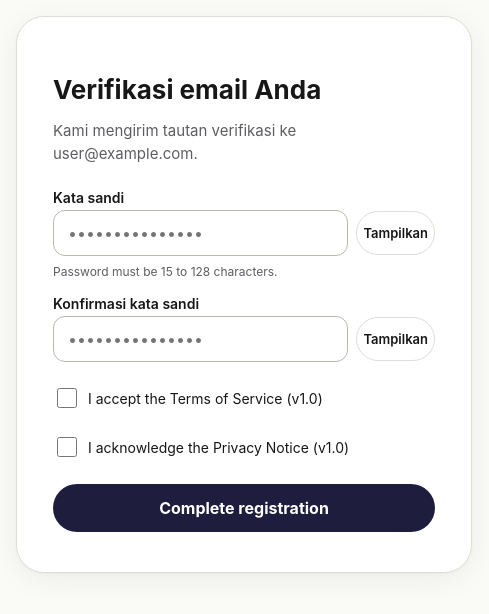
Test: AccountVerificationForm › clears token from address bar and validates password and terms before submitting
The image size is (489, 614).
Expected: the text "Kami mengirim tautan verifikasi ke user@example.com." is shown, left=53, top=121, right=296, bottom=163
// Submit with short password
Type "short" into the password field labelled "Kata sandi" at (201, 233), box left=53, top=210, right=348, bottom=256
Type "short" into the password field labelled "Konfirmasi kata sandi" at (201, 339), box left=53, top=316, right=348, bottom=362
Click the checkbox labelled "I accept the Terms of Service (v1.0)" at (67, 398), box left=57, top=388, right=77, bottom=408
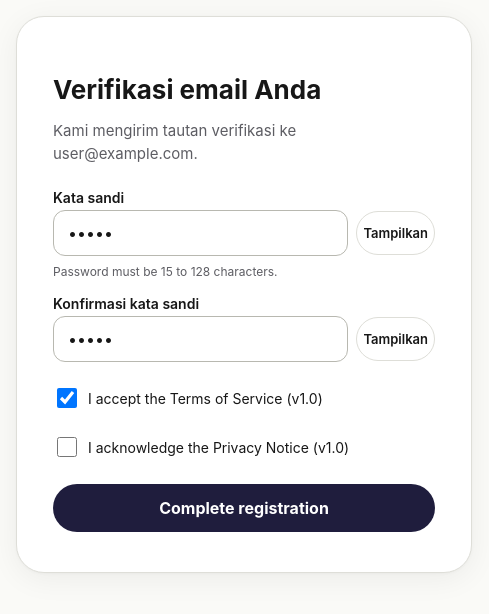
Click the checkbox labelled "I acknowledge the Privacy Notice (v1.0)" at (67, 447), box left=57, top=437, right=77, bottom=457
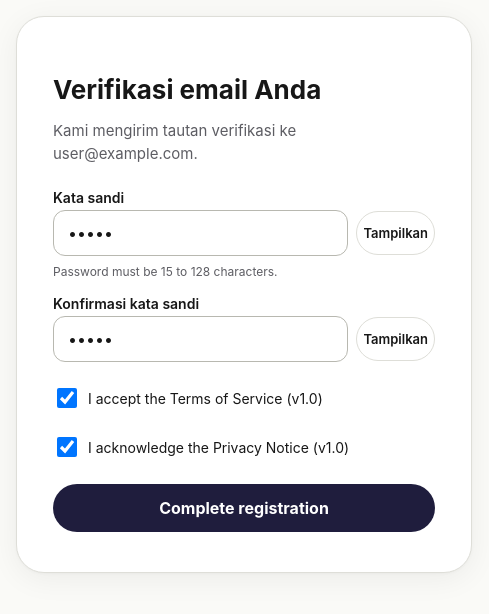
Click the button "Complete registration" at (244, 508), box left=53, top=484, right=435, bottom=532
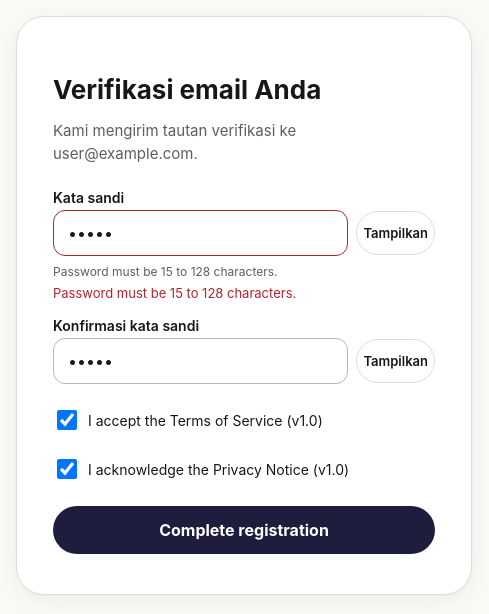
Now the message shows "15", box left=53, top=285, right=296, bottom=301
// Submit with valid 15+ char password
Type "valid-password-15-chars-min" into the password field labelled "Kata sandi" at (201, 233), box left=53, top=210, right=348, bottom=256
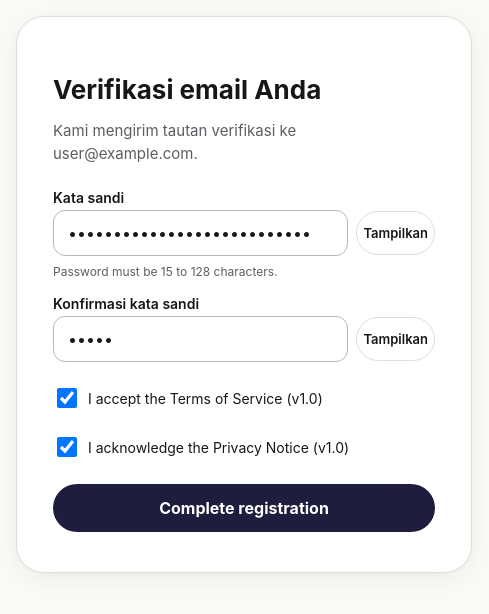
Type "valid-password-15-chars-min" into the password field labelled "Konfirmasi kata sandi" at (201, 339), box left=53, top=316, right=348, bottom=362
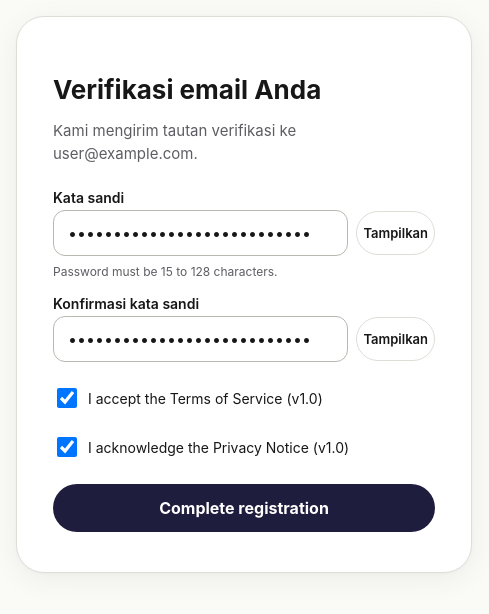
Click the button "Complete registration" at (244, 508), box left=53, top=484, right=435, bottom=532
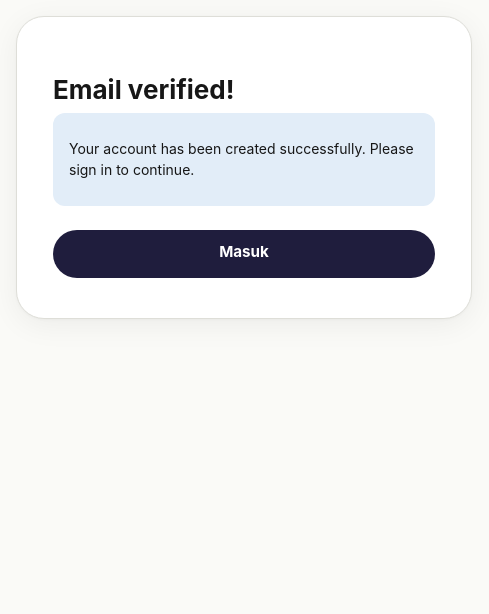
Now the heading "Email verified!" is shown, box left=53, top=74, right=234, bottom=105
